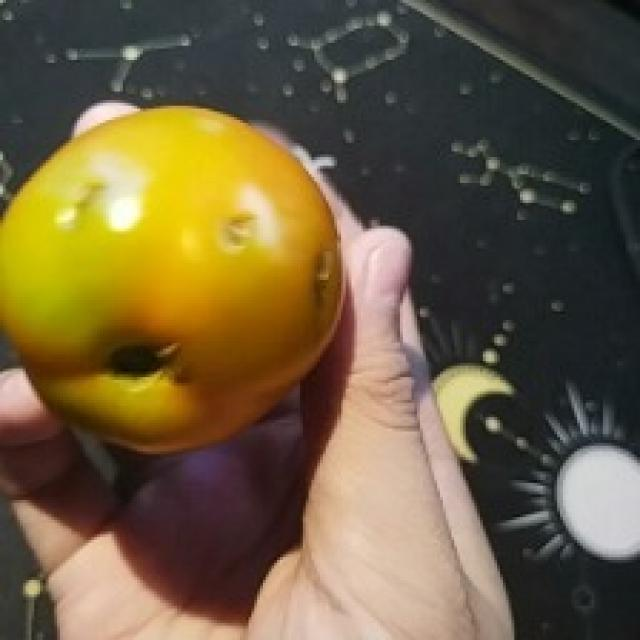Rotten Tomato: (0, 86, 357, 488)
